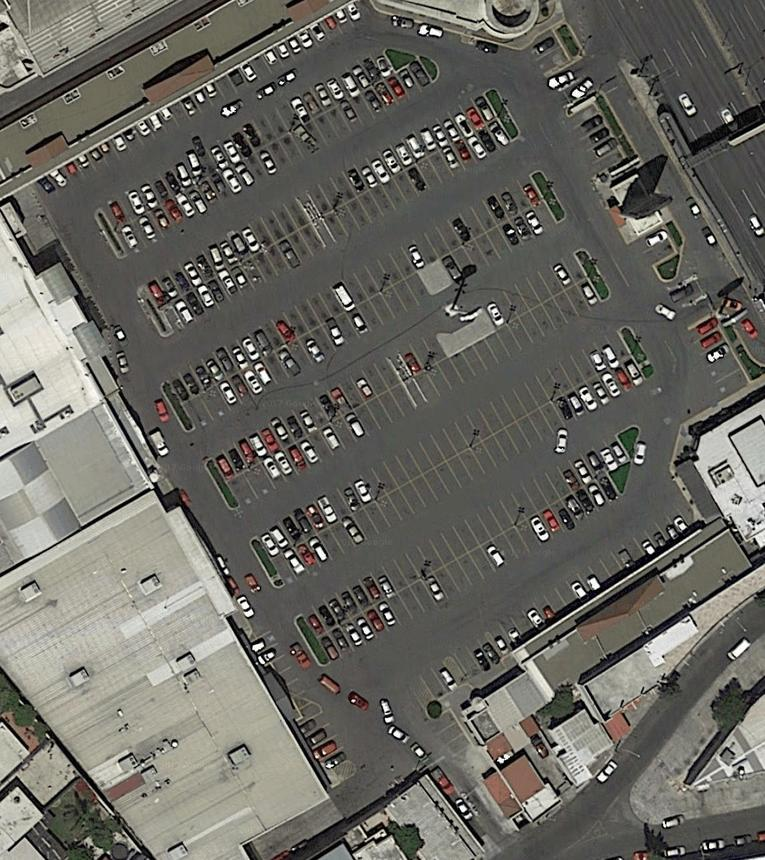parkingspot: (270, 355, 649, 589), (255, 329, 633, 561), (166, 173, 544, 405), (181, 199, 559, 431), (226, 277, 603, 509), (299, 434, 632, 640), (35, 1, 367, 202), (114, 58, 434, 259), (316, 472, 623, 667), (99, 49, 397, 233), (487, 507, 695, 659), (305, 91, 499, 220), (320, 116, 513, 244), (211, 357, 402, 483), (144, 197, 313, 312), (158, 221, 327, 336), (481, 251, 589, 331), (686, 316, 751, 401), (565, 103, 627, 176), (249, 630, 307, 700), (297, 711, 353, 773), (425, 709, 475, 759), (451, 633, 503, 681), (398, 331, 449, 377), (526, 27, 571, 77), (634, 225, 677, 269), (418, 659, 461, 702)
